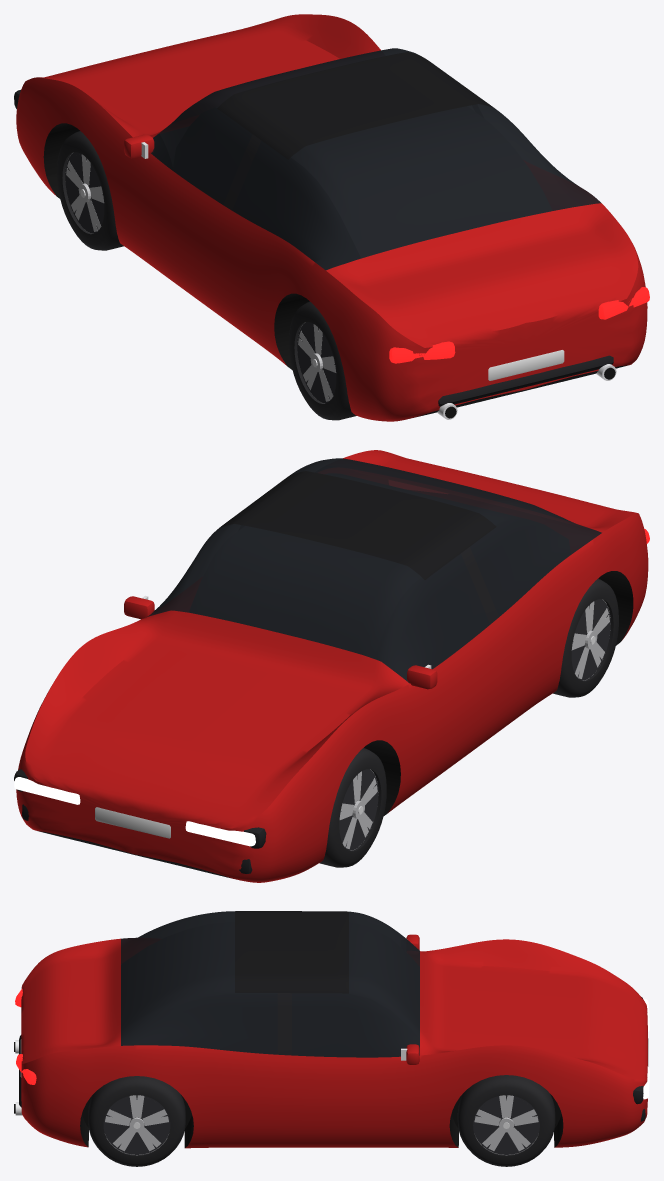
Rendered from bmw_z4.glb.
3 renders of one model, top to bottom at view 1: azimuth 30°, elevation 25°; view 2: azimuth 150°, elevation 25°; view 3: azimuth 270°, elevation 25°, orthographic. The views are drawn at different scales.
Parts seen in each view (by area): view 1: Body, Wheel_FL, Wheel_RL; view 2: Body, Wheel_FL, Wheel_RL; view 3: Body, Wheel_FR, Wheel_RR.
Boxes of the visible parts, bbox=[...] form: Body: bbox=[14, 14, 649, 421]; Wheel_FL: bbox=[57, 131, 123, 250]; Wheel_RL: bbox=[289, 301, 356, 420]; Body: bbox=[14, 450, 649, 882]; Wheel_FL: bbox=[319, 748, 386, 867]; Wheel_RL: bbox=[553, 578, 618, 697]; Body: bbox=[14, 911, 649, 1148]; Wheel_FR: bbox=[457, 1075, 555, 1166]; Wheel_RR: bbox=[88, 1076, 185, 1166].
Size of the model in its own units: 1.92 by 1.29 by 4.3.
